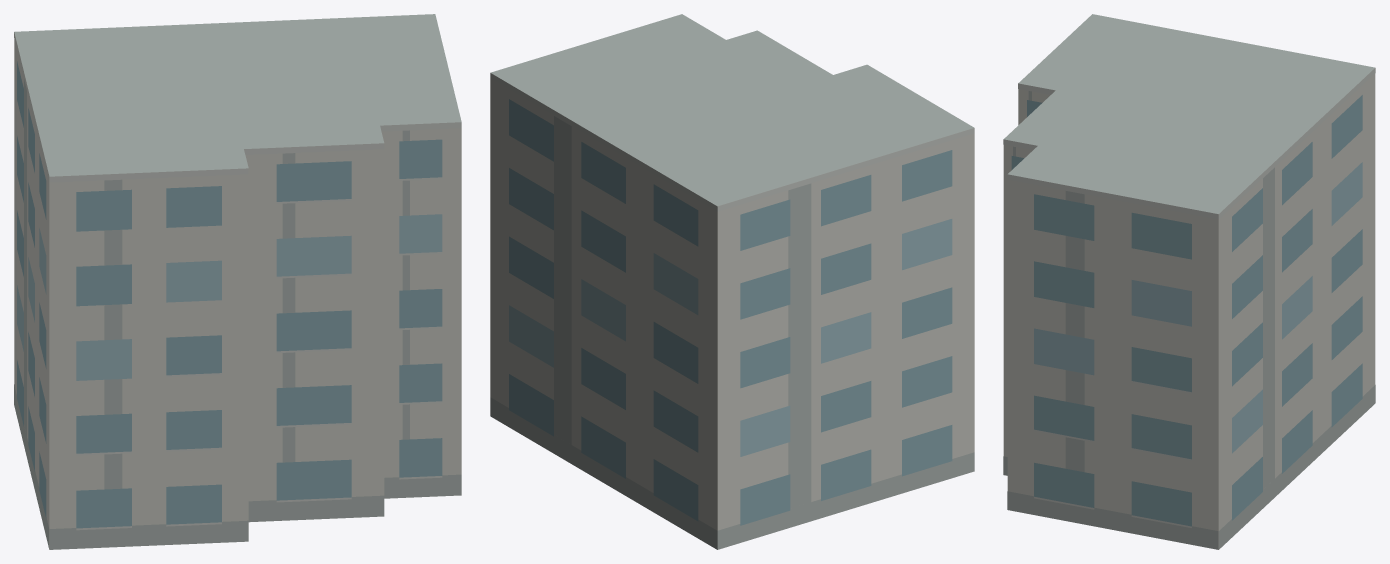
File: survey-upis-32801173.glb
3 views of the same model, side by side, from view 1: azimuth 30°, elevation 25°; view 2: azimuth 150°, elevation 25°; view 3: azimuth 270°, elevation 25° (orthographic). The views are drawn at different scales.
Parts seen in each view (by area): view 1: survey-upis-32801173.tmp; view 2: survey-upis-32801173.tmp; view 3: survey-upis-32801173.tmp.
Part boxes in pixels (x1,y1,x2,y2): survey-upis-32801173.tmp: (14,14,461,549); survey-upis-32801173.tmp: (490,14,974,549); survey-upis-32801173.tmp: (1003,14,1375,549).
Size of the model in its own units: 19.07 by 14.9 by 14.97.
